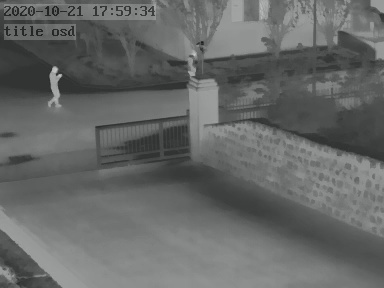person: (46, 63, 62, 106), (183, 47, 197, 77)
